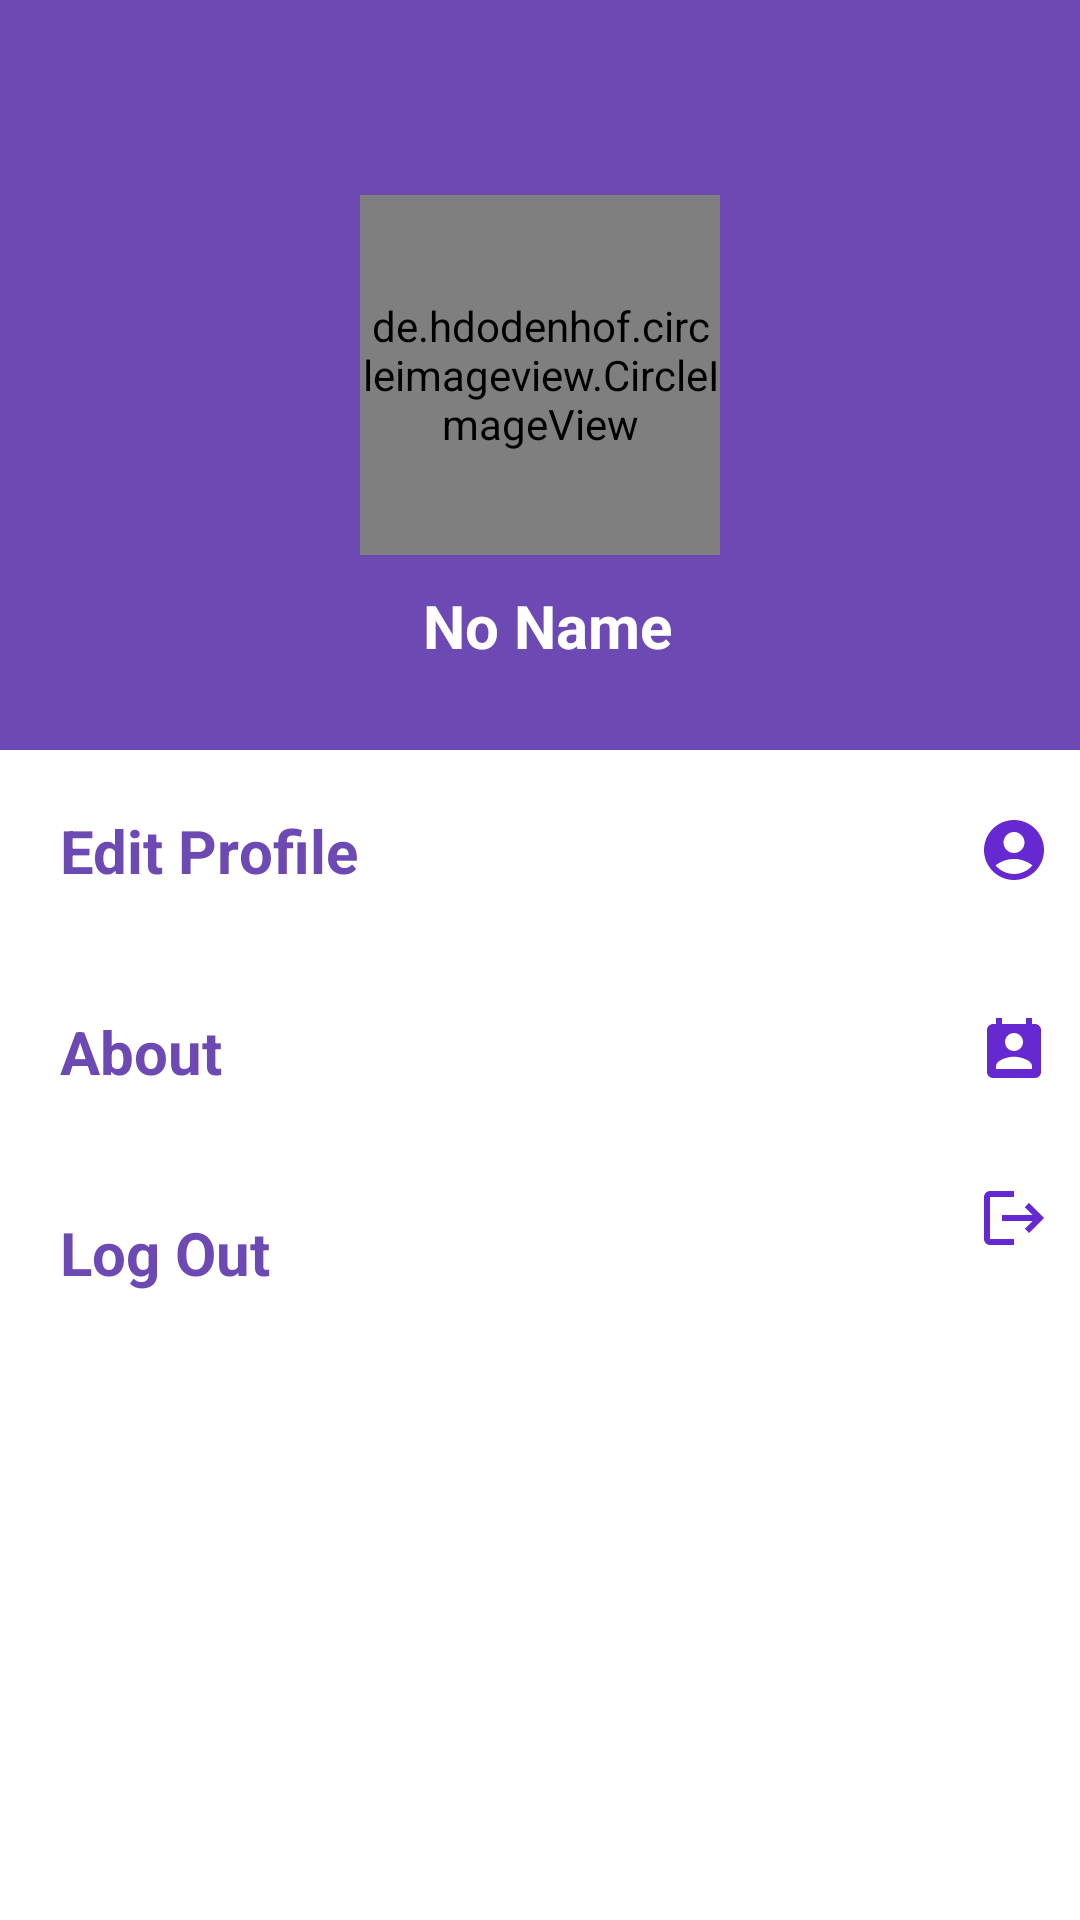

Icons on this 1080×1920 Android screen, each with its box as [left=x1, top=y1, right=x2, bottom=y2]:
acc: [left=984, top=820, right=1044, bottom=880]
